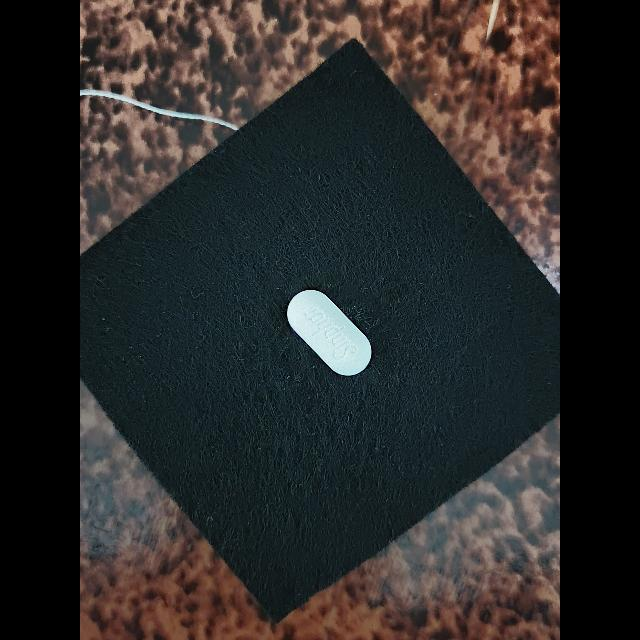Intact Pill: (287, 290, 372, 376)
